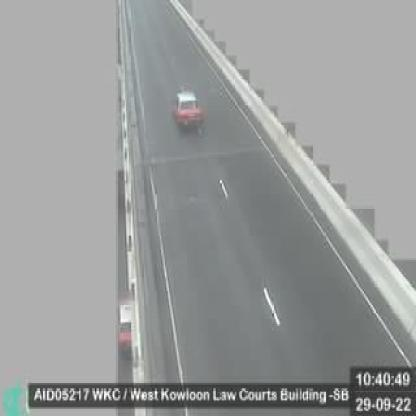Car: (166, 89, 210, 128)
